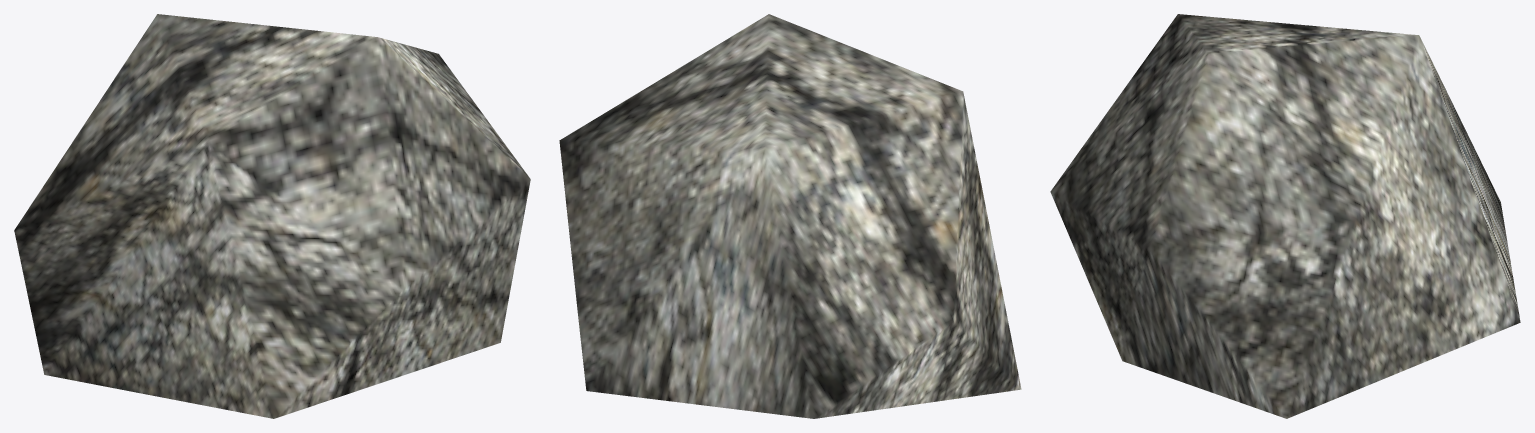
The model's file is rockSmall_1.fbx.
3 views of the same model, side by side, from view 1: azimuth 30°, elevation 25°; view 2: azimuth 150°, elevation 25°; view 3: azimuth 270°, elevation 25° (orthographic). The views are drawn at different scales.
Parts seen in each view (by area): view 1: pCube1; view 2: pCube1; view 3: pCube1.
Part boxes in pixels (x1,y1,x2,y2): pCube1: (14, 14, 530, 418); pCube1: (559, 14, 1021, 418); pCube1: (1050, 14, 1520, 418).
Bounding box in the file's own units: 1.67 × 1.1 × 1.6.
Materials: 1 (1 with a texture image).
